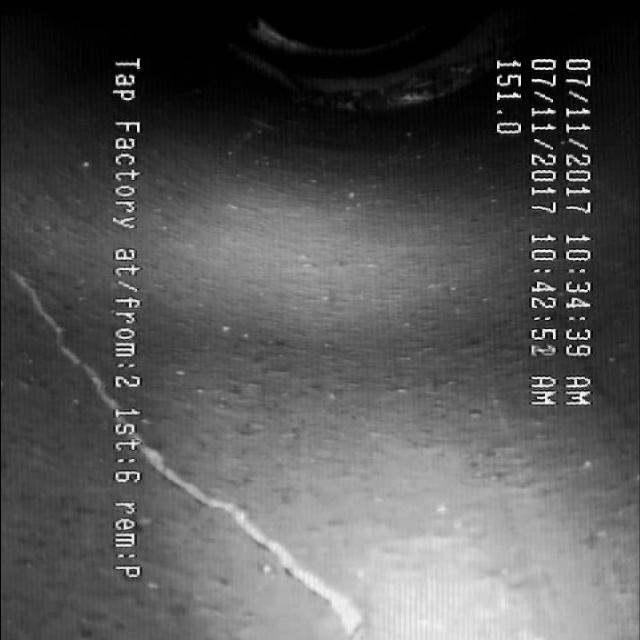Crack: (160, 440, 378, 630)
